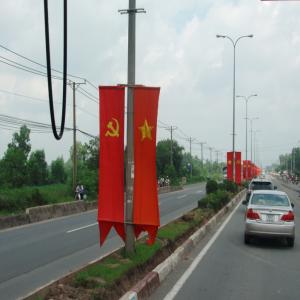Vehicle-registration-plate: (266, 216, 276, 224)
